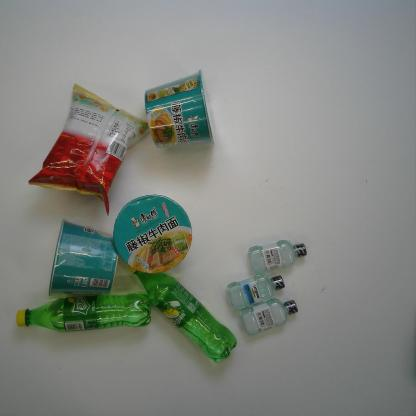Drink: (126, 264, 238, 364), (16, 292, 152, 334)
Instant Noodles: (112, 194, 193, 275), (144, 68, 216, 148), (47, 218, 119, 295)
Personal Hygiene: (239, 298, 299, 336), (226, 273, 285, 311), (248, 239, 307, 275)
Puffed Food: (27, 82, 150, 216)
